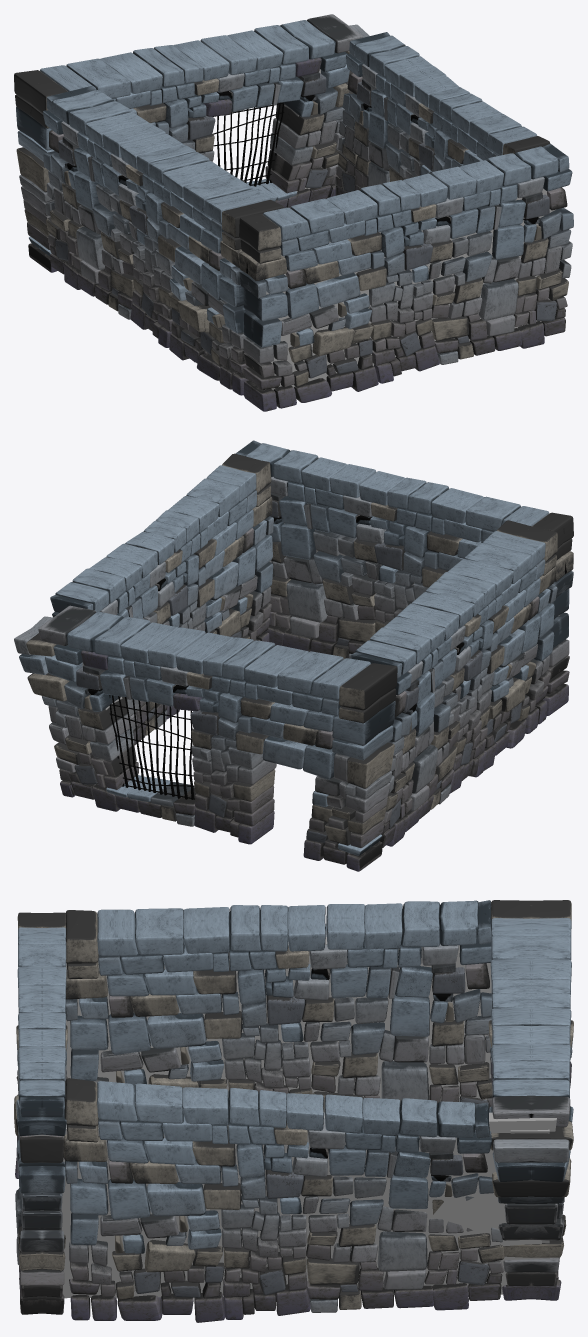
Rendered from house_02.fbx.
3 views of the same model, one above another, from view 1: azimuth 30°, elevation 25°; view 2: azimuth 150°, elevation 25°; view 3: azimuth 270°, elevation 25° (orthographic). The views are drawn at different scales.
Visible parts, largest first — view 1: polySurface128, polySurface127, polySurface133, polySurface129, pCube254, pCube255, polySurface126; view 2: polySurface133, polySurface128, polySurface127, polySurface129, pCube254; view 3: polySurface129, polySurface127, polySurface133, polySurface128, pCube257, pCube256.
Boxes of the visible parts, x1=… form: polySurface128: x1=239, y1=143, x2=573, y2=411; polySurface127: x1=42, y1=86, x2=283, y2=395; polySurface133: x1=14, y1=14, x2=369, y2=272; polySurface129: x1=335, y1=32, x2=550, y2=195; pCube254: x1=212, y1=102, x2=284, y2=186; pCube255: x1=255, y1=188, x2=555, y2=390; polySurface126: x1=187, y1=218, x2=248, y2=395; polySurface133: x1=14, y1=605, x2=397, y2=871; polySurface128: x1=236, y1=440, x2=573, y2=715; polySurface127: x1=351, y1=520, x2=557, y2=847; polySurface129: x1=50, y1=453, x2=273, y2=745; pCube254: x1=109, y1=695, x2=194, y2=799; polySurface129: x1=63, y1=1078, x2=504, y2=1322; polySurface127: x1=65, y1=900, x2=492, y2=1112; polySurface133: x1=488, y1=900, x2=573, y2=1300; polySurface128: x1=14, y1=912, x2=67, y2=1314; pCube257: x1=61, y1=1112, x2=556, y2=1298; pCube256: x1=66, y1=937, x2=491, y2=1106.
Bounding box in the file's own units: 1833 × 950 × 2089.
